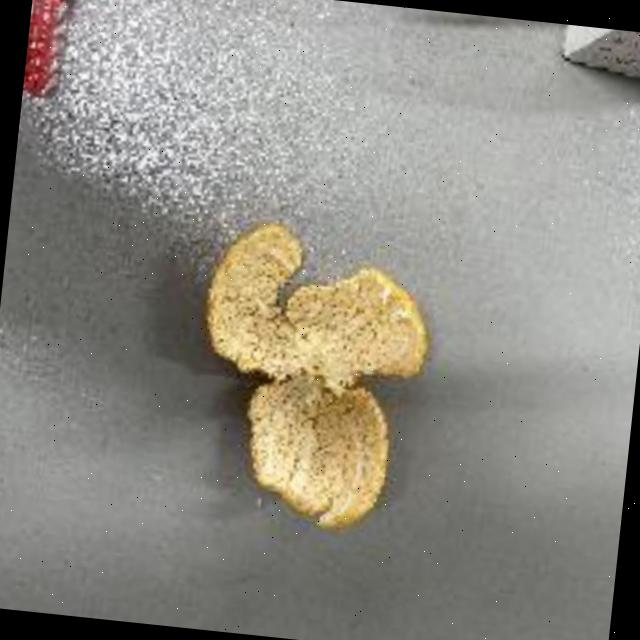orange-peel: (218, 225, 430, 582)
